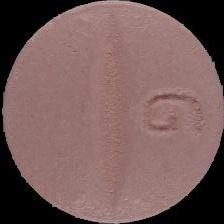68462-209: (0, 0, 224, 224)
